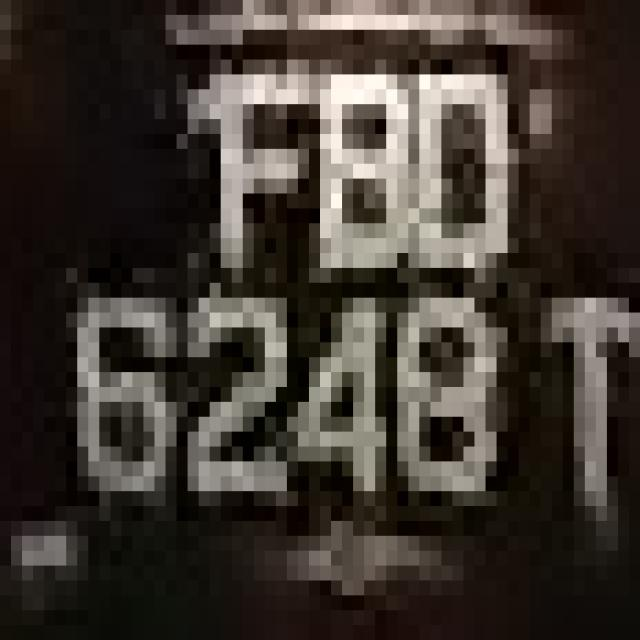2: (166, 268, 320, 521)
4: (276, 312, 397, 521)
6: (44, 283, 199, 521)
8: (364, 268, 497, 536)
B: (298, 15, 419, 327)
D: (408, 45, 530, 312)
F: (199, 30, 298, 298)
T: (508, 253, 629, 566)
